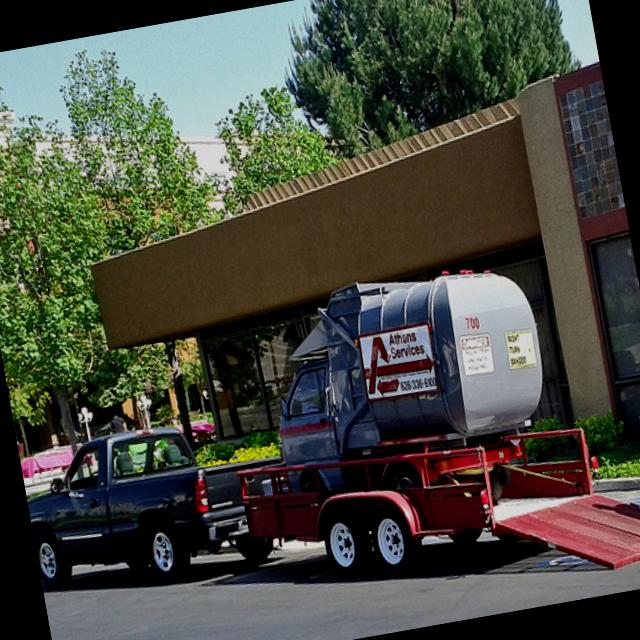Vehicle: (204, 232, 640, 626), (18, 404, 296, 598)
